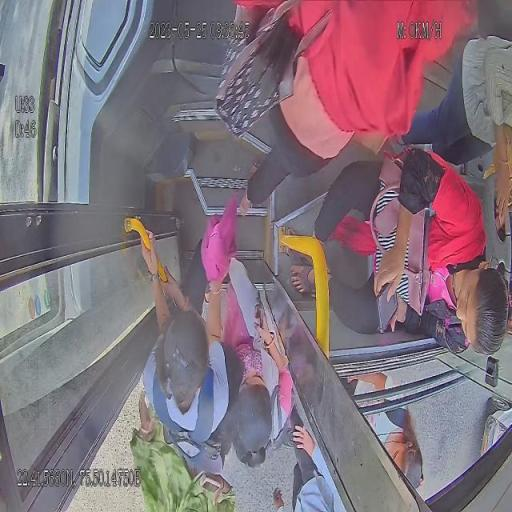persona: (213, 0, 483, 210), (279, 146, 509, 358), (398, 33, 512, 239), (129, 227, 231, 445), (224, 254, 295, 468), (121, 391, 238, 512), (272, 387, 334, 512)
